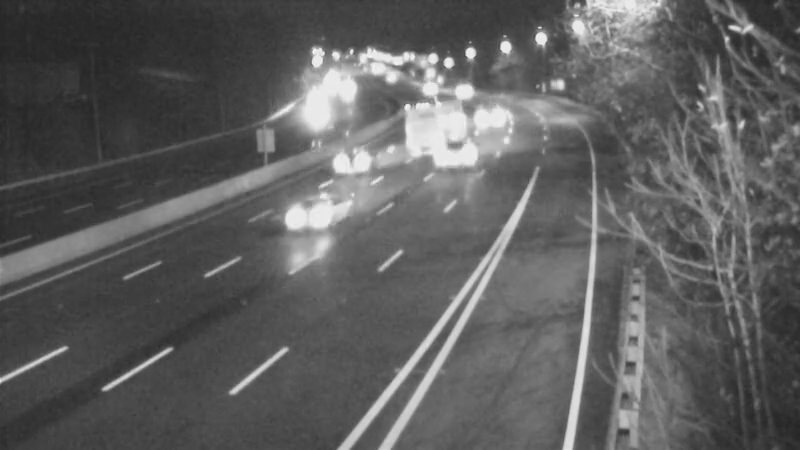vehicle: (420, 113, 500, 193), (310, 124, 390, 204), (279, 170, 359, 250), (399, 65, 449, 115), (431, 61, 481, 111), (471, 89, 521, 139), (406, 90, 456, 140), (292, 81, 342, 131), (324, 66, 374, 116)
